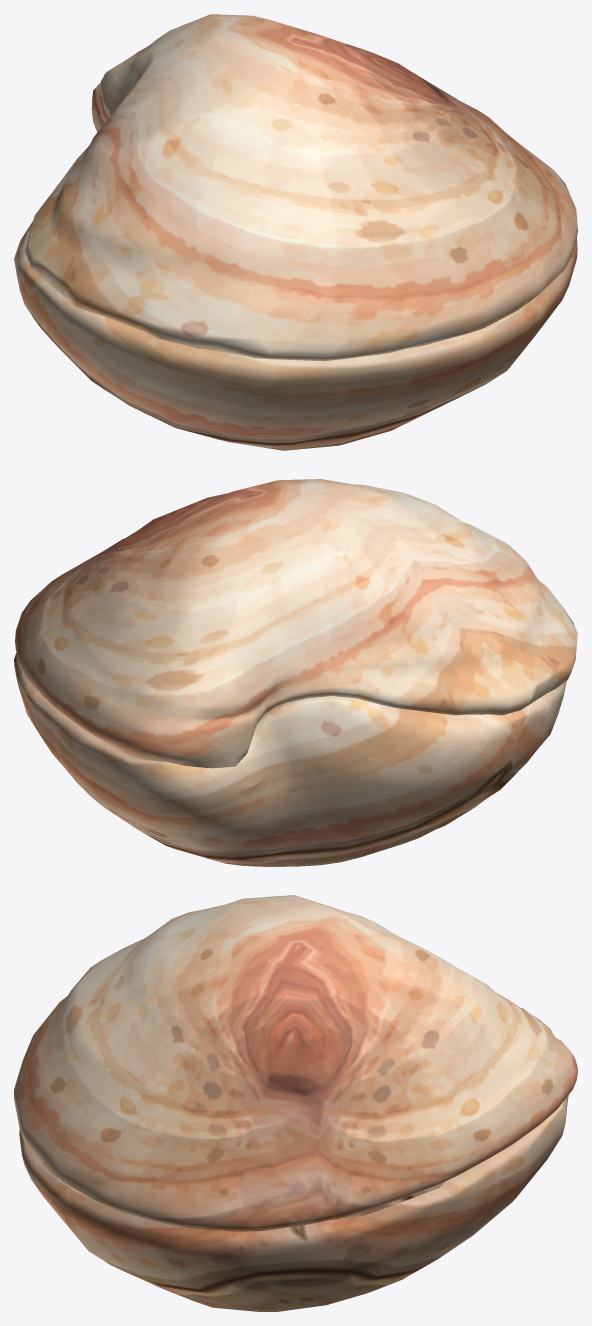
File: seashell.fbx
3 views of the same model, one above another, from view 1: azimuth 30°, elevation 25°; view 2: azimuth 150°, elevation 25°; view 3: azimuth 270°, elevation 25° (orthographic). The views are drawn at different scales.
Visible parts, largest first — view 1: Seashell_Textured; view 2: Seashell_Textured; view 3: Seashell_Textured.
Boxes of the visible parts, x1,y1,x2,y2 form: Seashell_Textured: (14,14,577,450); Seashell_Textured: (14,479,577,866); Seashell_Textured: (14,895,577,1311).
Bounding box in the file's own units: 0.9917 × 0.6929 × 0.9995.
Materials: 1 (1 with a texture image).
